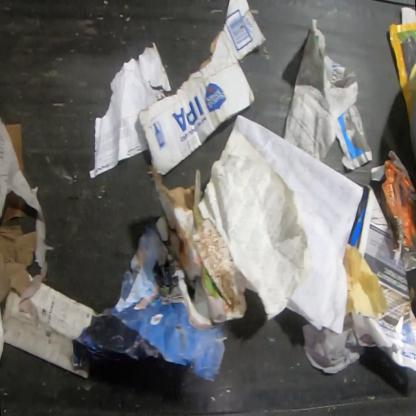cardboard: (140, 0, 264, 179), (153, 168, 247, 330), (0, 224, 38, 306), (6, 122, 24, 178), (2, 190, 26, 222)
soft_plastic: (370, 150, 415, 274)
